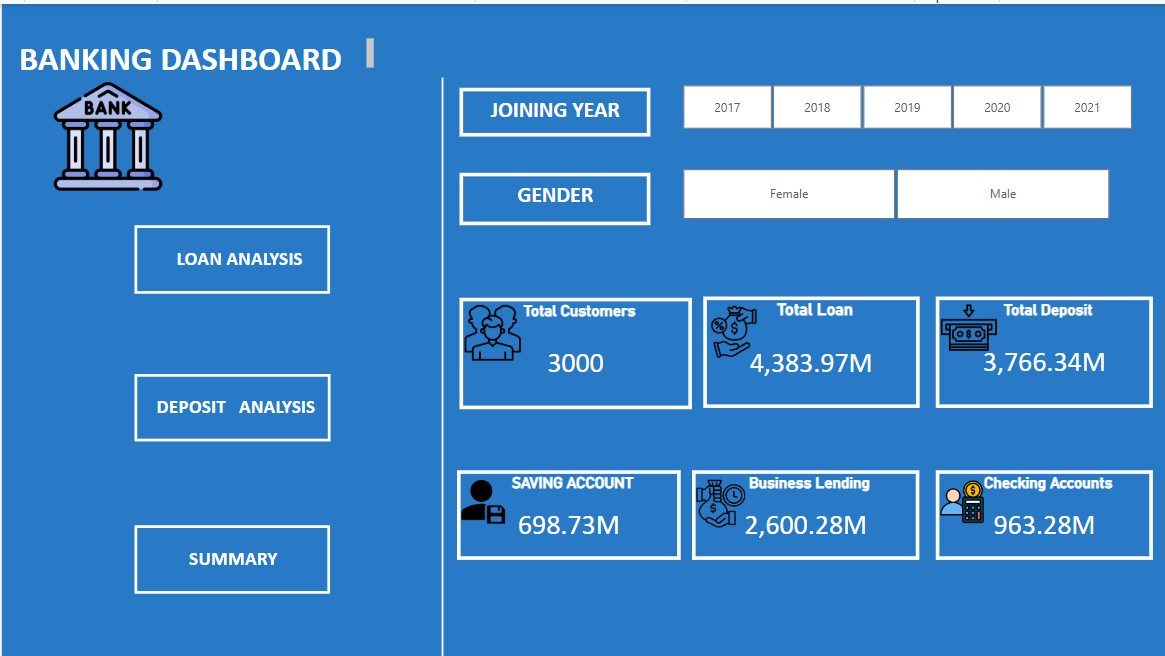

The page's visual inventory and layout, read from the dashboard file:
{"tool":"powerbi","page":{"name":"Home","canvas":[1280,720],"ordinal":0},"visuals":[{"type":"card","title":"Total Customers","fields":{"Values":["CountNonNull(Banking.Name)"]},"box":[502.2,322.5,255.2,122.1],"z":0},{"type":"textbox","box":[502.2,91.9,209.9,53.5],"z":1000},{"type":"slicer","fields":{"Values":["Banking.GenderId"]},"box":[721.8,174.3,517.3,68.6],"z":2000},{"type":"actionButton","title":"LOAN DEPOSIT","box":[145.5,242.9,215.4,75.5],"z":3000,"group":"g1"},{"type":"card","title":"Total Loan","fields":{"Values":["Banking.Total_Loan"]},"box":[769.8,321.1,237.4,122.1],"z":3000},{"type":"textbox","box":[167.5,262.1,230.5,38.4],"z":4000,"group":"g1"},{"type":"card","title":"Total Deposit","fields":{"Values":["Banking.Total_Deposit"]},"box":[1025,321.1,238.8,122.1],"z":4000},{"type":"card","title":"SAVING ACCOUNT","fields":{"Values":["Sum(Banking.Saving Accounts)"]},"box":[499.5,511.8,245.6,98.8],"z":5000},{"type":"textbox","box":[502.2,185.2,209.9,57.6],"z":6000},{"type":"textbox","box":[13.7,32.9,399.3,48],"z":7000},{"type":"shape","box":[465.2,81,37,639.5],"z":8000},{"type":"slicer","fields":{"Values":["DATEMASTER.YEAR"]},"box":[721.8,82.3,542,61.7],"z":9000},{"type":"card","title":"Business Lending","fields":{"Values":["Sum(Banking.Business Lending)"]},"box":[757.5,511.8,249.7,98.8],"z":10000},{"type":"card","title":"Checking Accounts","fields":{"Values":["Sum(Banking.Checking Accounts)"]},"box":[1025,511.8,238.8,98.8],"z":11000},{"type":"image","box":[0,81,233.3,129],"z":12000},{"type":"group","id":"g1","title":"Group 1","box":[145.5,242.9,252.5,75.5],"z":13000},{"type":"group","id":"g2","title":"Group 2","box":[145.5,406.2,252.5,74.1],"z":14000},{"type":"actionButton","title":"LOAN DEPOSIT","box":[145.5,406.2,215.4,74.1],"z":15000,"group":"g2"},{"type":"group","id":"g3","title":"Group 3","box":[145.5,572.2,215.4,75.5],"z":15000},{"type":"image","box":[502.2,315.6,72.7,90.6],"z":15001},{"type":"image","box":[1025,310.1,72.7,90.6],"z":15002},{"type":"image","box":[769.8,314.2,67.2,90.6],"z":15003},{"type":"image","box":[499.5,510.5,57.6,71.4],"z":15004},{"type":"image","box":[1025,510.5,57.6,71.4],"z":15005},{"type":"image","box":[757.5,505,63.1,86.4],"z":15006},{"type":"actionButton","title":"LOAN DEPOSIT","box":[145.5,572.2,215.4,75.5],"z":16000,"group":"g3"},{"type":"textbox","box":[181.2,591.4,144.1,38.4],"z":17000,"group":"g3"},{"type":"textbox","box":[145.5,424,252.5,38.4],"z":18000,"group":"g2"}]}

Visuals, with their boxes in screenshot pixels (x1, y1, x2, y2), scaled from the page's 1280x720 canvas onto the 1165x656 screenshot:
"Total Customers" card: crop(457, 294, 689, 405)
textbox: crop(457, 84, 648, 132)
slicer - Banking.GenderId: crop(657, 159, 1128, 221)
"LOAN DEPOSIT" actionButton: crop(132, 221, 328, 290)
"Total Loan" card: crop(701, 293, 917, 404)
textbox: crop(152, 239, 362, 274)
"Total Deposit" card: crop(933, 293, 1150, 404)
"SAVING ACCOUNT" card: crop(455, 466, 678, 556)
textbox: crop(457, 169, 648, 221)
textbox: crop(12, 30, 376, 74)
shape: crop(423, 74, 457, 655)
slicer - DATEMASTER.YEAR: crop(657, 75, 1150, 131)
"Business Lending" card: crop(689, 466, 917, 556)
"Checking Accounts" card: crop(933, 466, 1150, 556)
image: crop(0, 74, 212, 191)
"Group 1" group: crop(132, 221, 362, 290)
"Group 2" group: crop(132, 370, 362, 438)
"LOAN DEPOSIT" actionButton: crop(132, 370, 328, 438)
"Group 3" group: crop(132, 521, 328, 590)
image: crop(457, 288, 523, 370)
image: crop(933, 283, 999, 365)
image: crop(701, 286, 762, 369)
image: crop(455, 465, 507, 530)
image: crop(933, 465, 985, 530)
image: crop(689, 460, 747, 539)
"LOAN DEPOSIT" actionButton: crop(132, 521, 328, 590)
textbox: crop(165, 539, 296, 574)
textbox: crop(132, 386, 362, 421)
